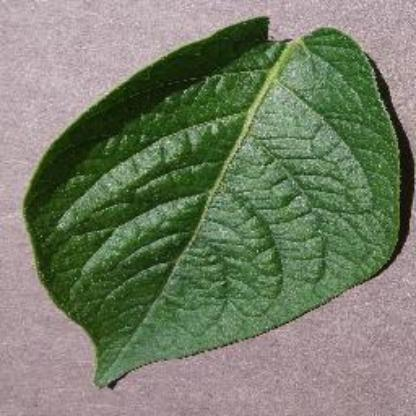Healthy-plant: (13, 13, 412, 378)
